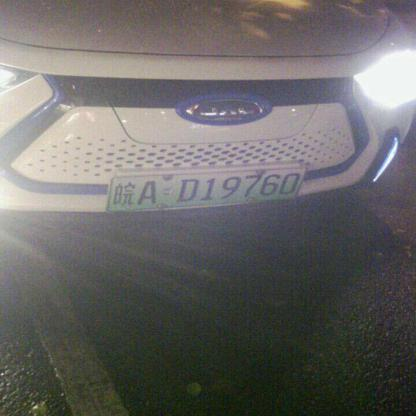lp: (105, 166, 308, 212)
